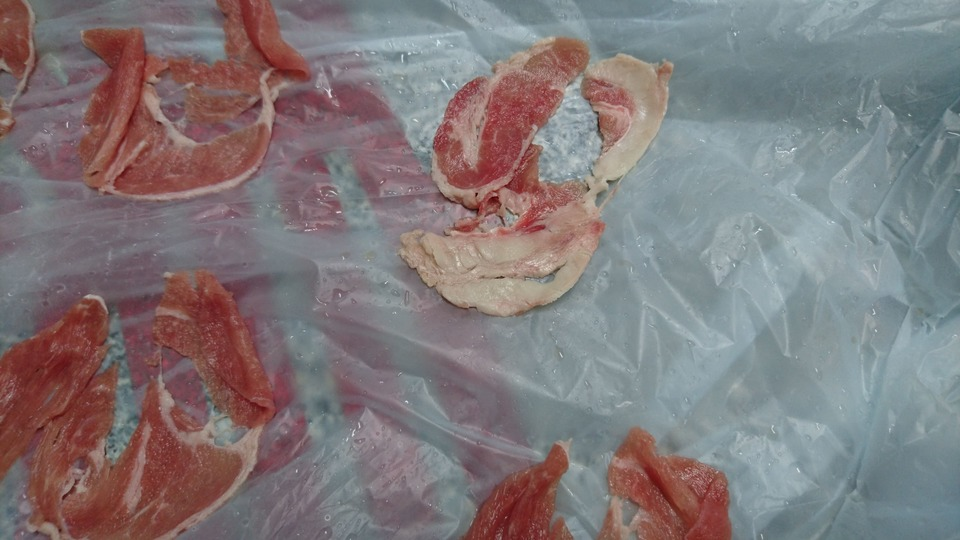restructured meat: (405, 35, 667, 320), (1, 267, 266, 540), (73, 1, 313, 202)
